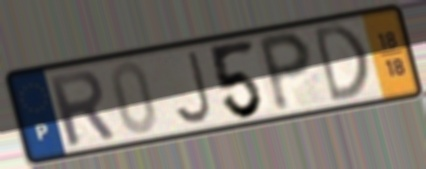0: (108, 58, 162, 139)
5: (204, 36, 265, 121)
D: (310, 20, 372, 107)
J: (171, 48, 215, 127)
P: (254, 29, 315, 116)
R: (44, 67, 119, 150)
